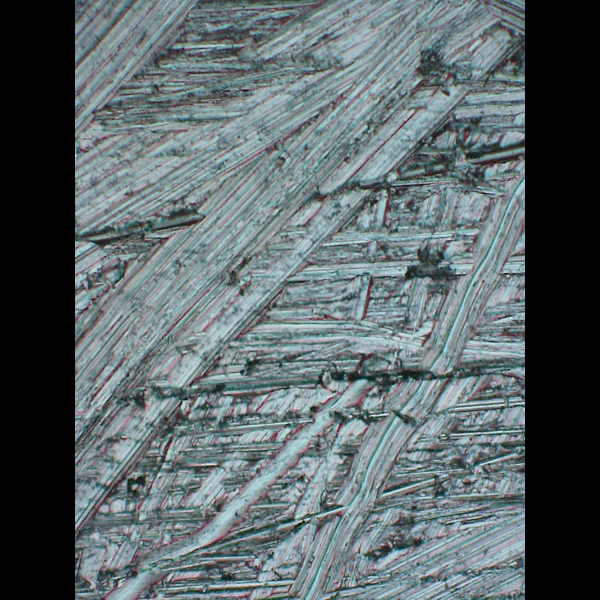d: (75, 0, 520, 594)
